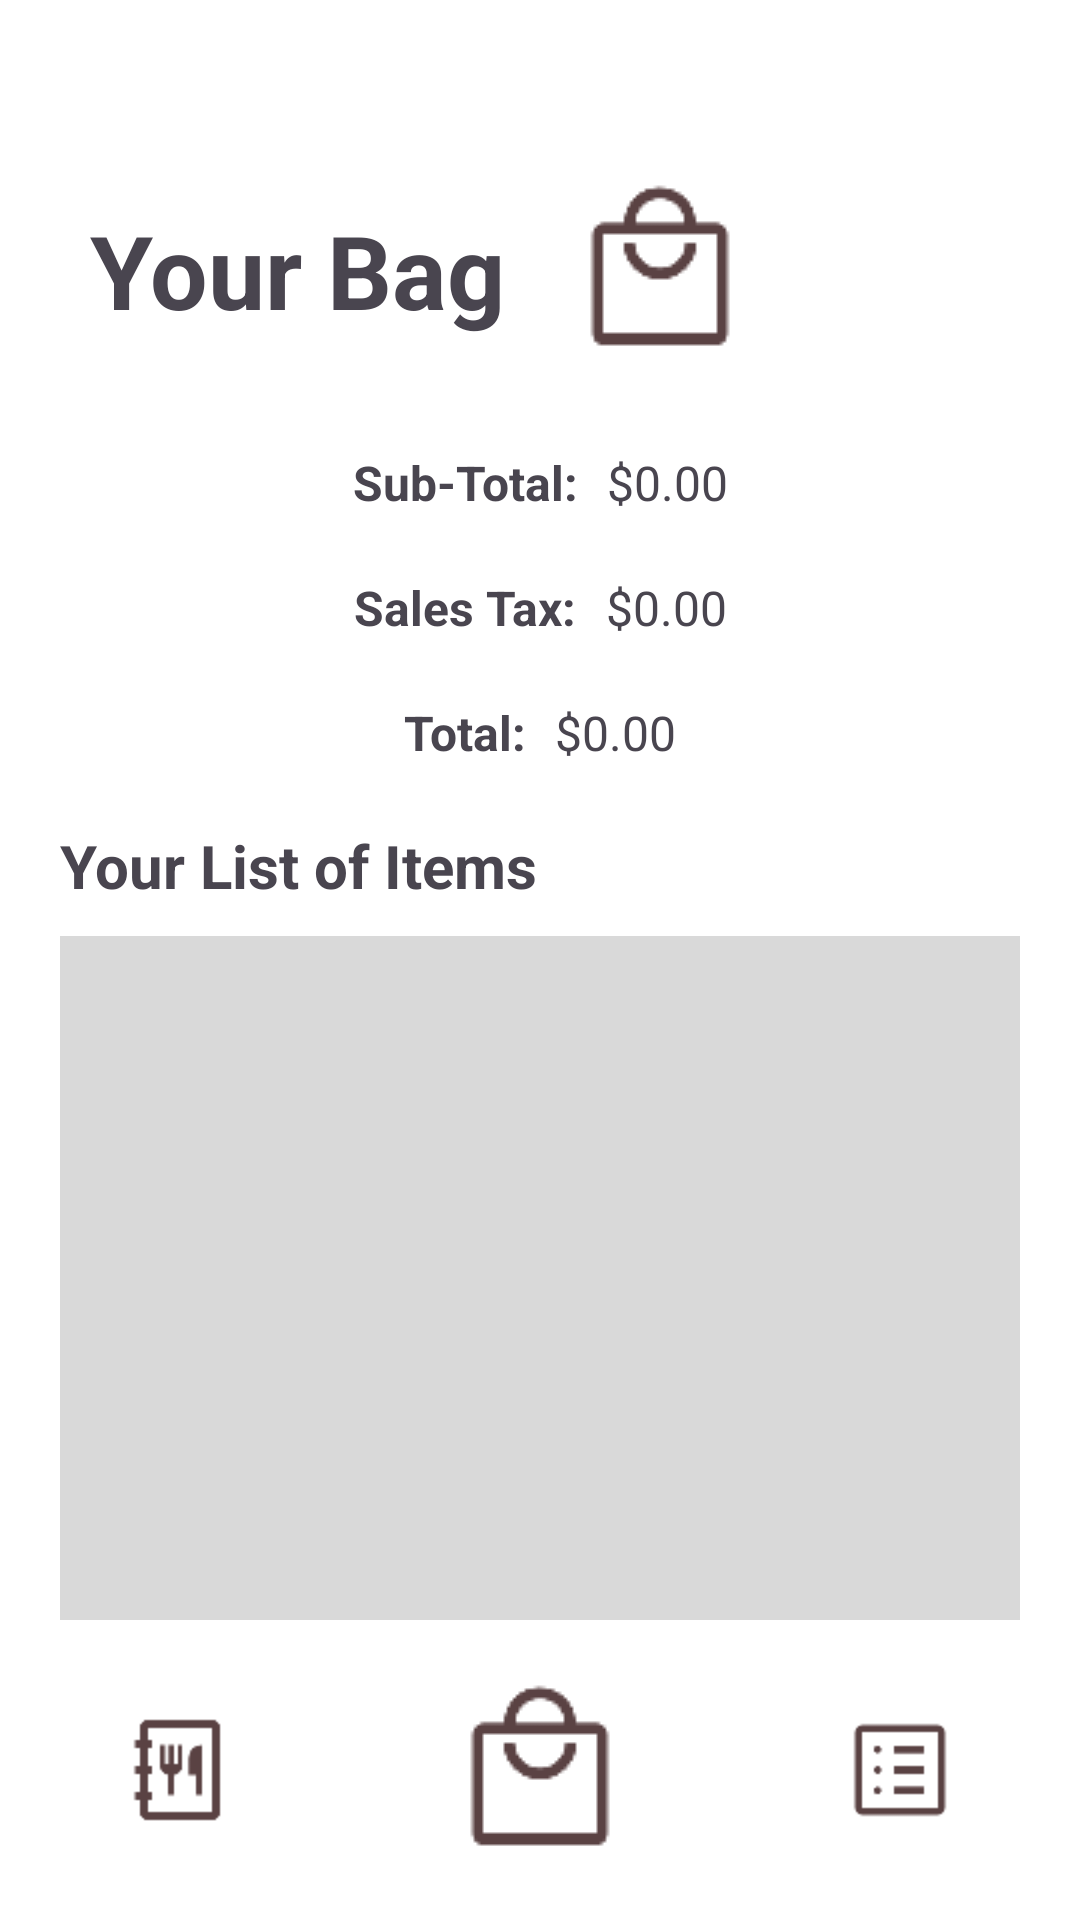

Icon bounding boxes for this 1080 × 1920 phone screenshot, format {"left": x1, "top": y1, "right": x2, "bottom": y2}:
menu: {"left": 134, "top": 1719, "right": 221, "bottom": 1821}
order: {"left": 854, "top": 1724, "right": 946, "bottom": 1816}
